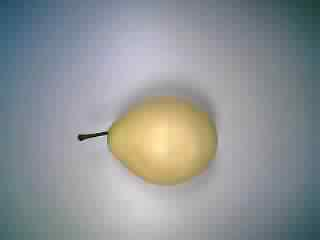pear: (62, 85, 231, 193)
